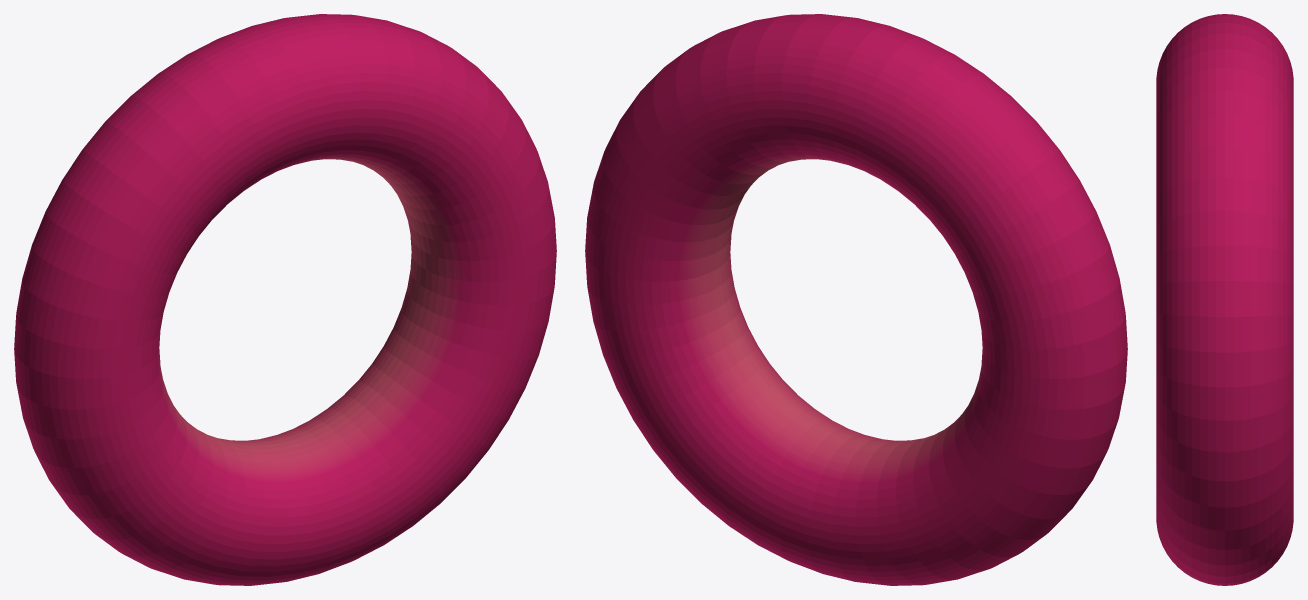
3 views of the same model, side by side, from view 1: azimuth 30°, elevation 25°; view 2: azimuth 150°, elevation 25°; view 3: azimuth 270°, elevation 25° (orthographic). The views are drawn at different scales.
Visible parts, largest first — view 1: world; view 2: world; view 3: world.
Boxes of the visible parts, x1=… form: world: x1=14, y1=14, x2=556, y2=585; world: x1=585, y1=14, x2=1127, y2=585; world: x1=1156, y1=14, x2=1293, y2=585.
Bounding box in the file's own units: 31.6 × 31.54 × 7.59.
